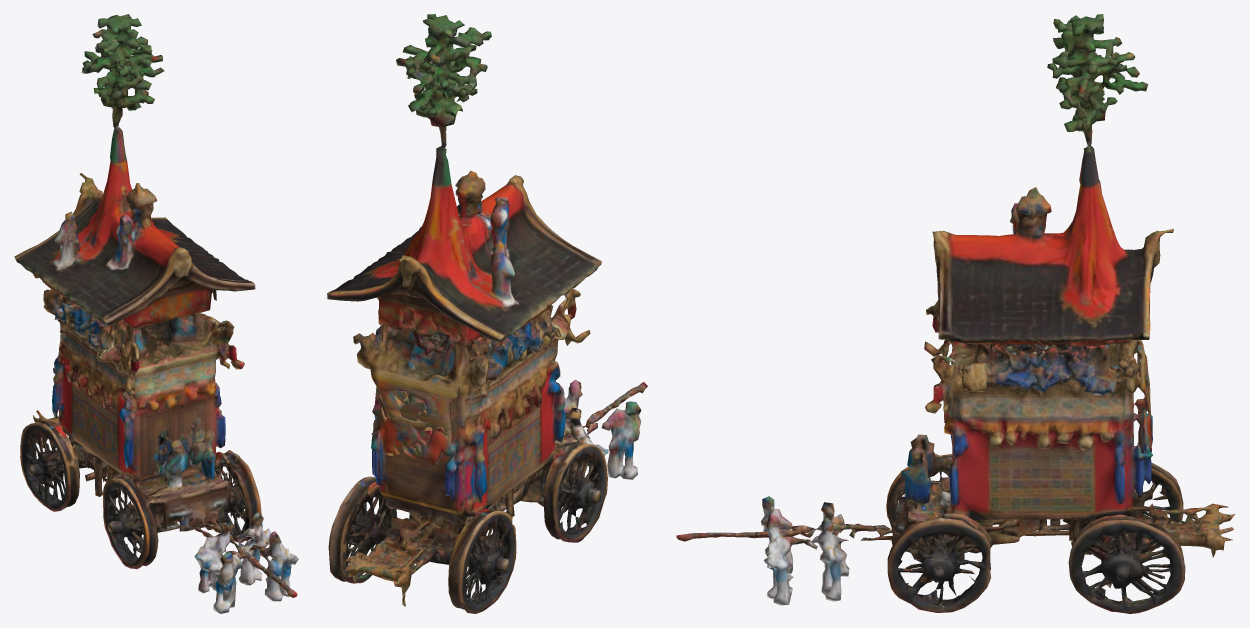
Rendered from 岩戸山.glb.
3 views of the same model, side by side, from view 1: azimuth 30°, elevation 25°; view 2: azimuth 150°, elevation 25°; view 3: azimuth 270°, elevation 25° (orthographic). The views are drawn at different scales.
Visible parts, largest first — view 1: Mesh1.0; view 2: Mesh1.0; view 3: Mesh1.0.
Part boxes in pixels (box(x1,y1,x2,y2)): Mesh1.0: box(14, 14, 298, 613); Mesh1.0: box(327, 14, 647, 613); Mesh1.0: box(676, 14, 1235, 613).
Bounding box in the file's own units: 3.67 × 11.2 × 10.05.
1 material, 1 textured.
